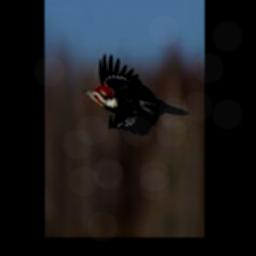Woodpecker: (82, 53, 189, 136)
